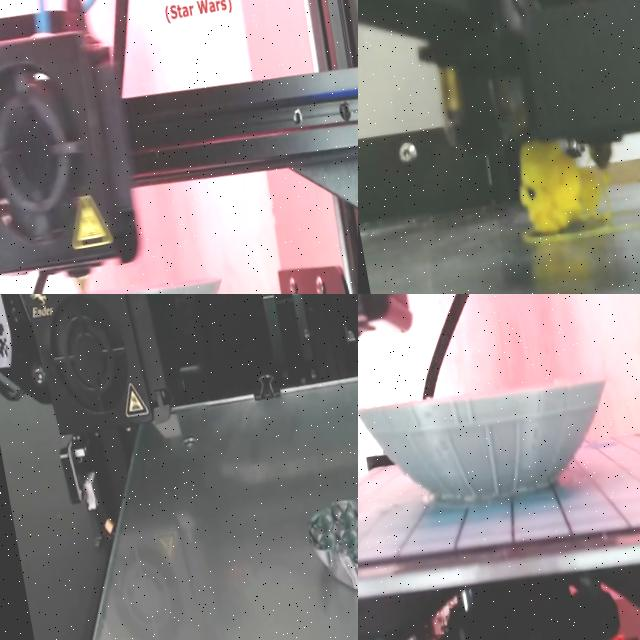spaghetti: (508, 126, 630, 248)
